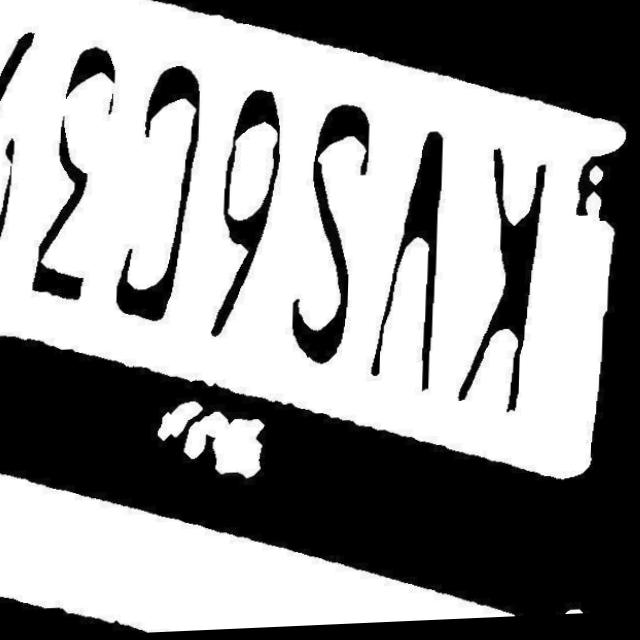3: (31, 36, 120, 312)
6: (211, 79, 285, 361)
9: (0, 30, 35, 286)
c: (110, 67, 209, 331)
k: (459, 149, 547, 431)
s: (282, 105, 380, 369)
v: (361, 105, 449, 397)
